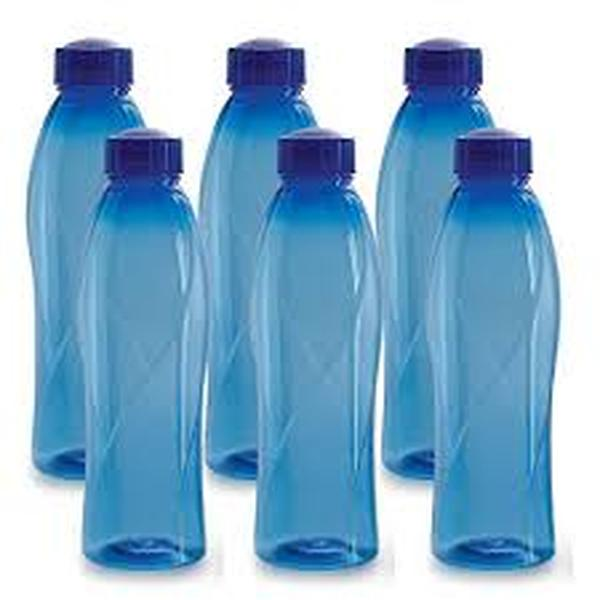tutuma: (423, 121, 571, 576), (246, 122, 389, 572), (71, 121, 212, 577)
